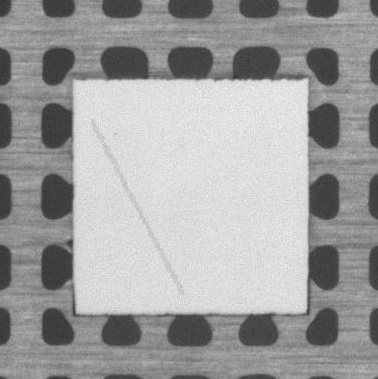DIE_CRACK: (92, 121, 183, 295)
